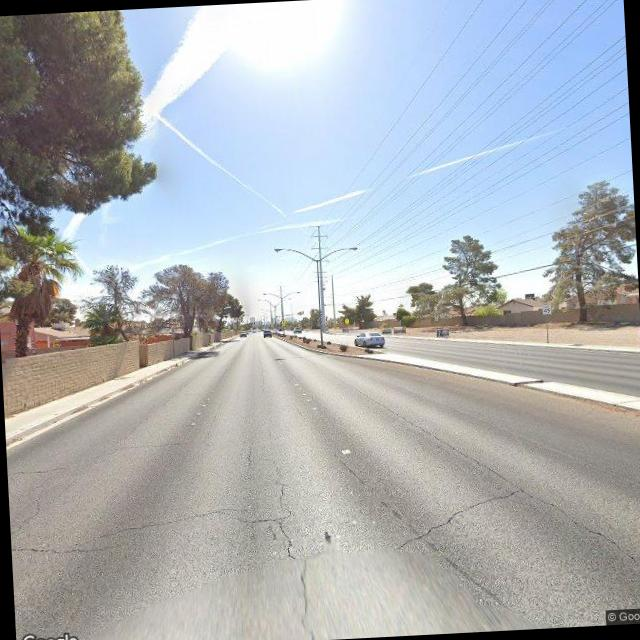crack: (370, 378, 640, 592), (11, 500, 284, 552), (260, 459, 324, 640), (386, 486, 527, 550), (8, 494, 46, 550), (115, 434, 192, 453), (198, 394, 226, 444), (7, 460, 75, 480)
